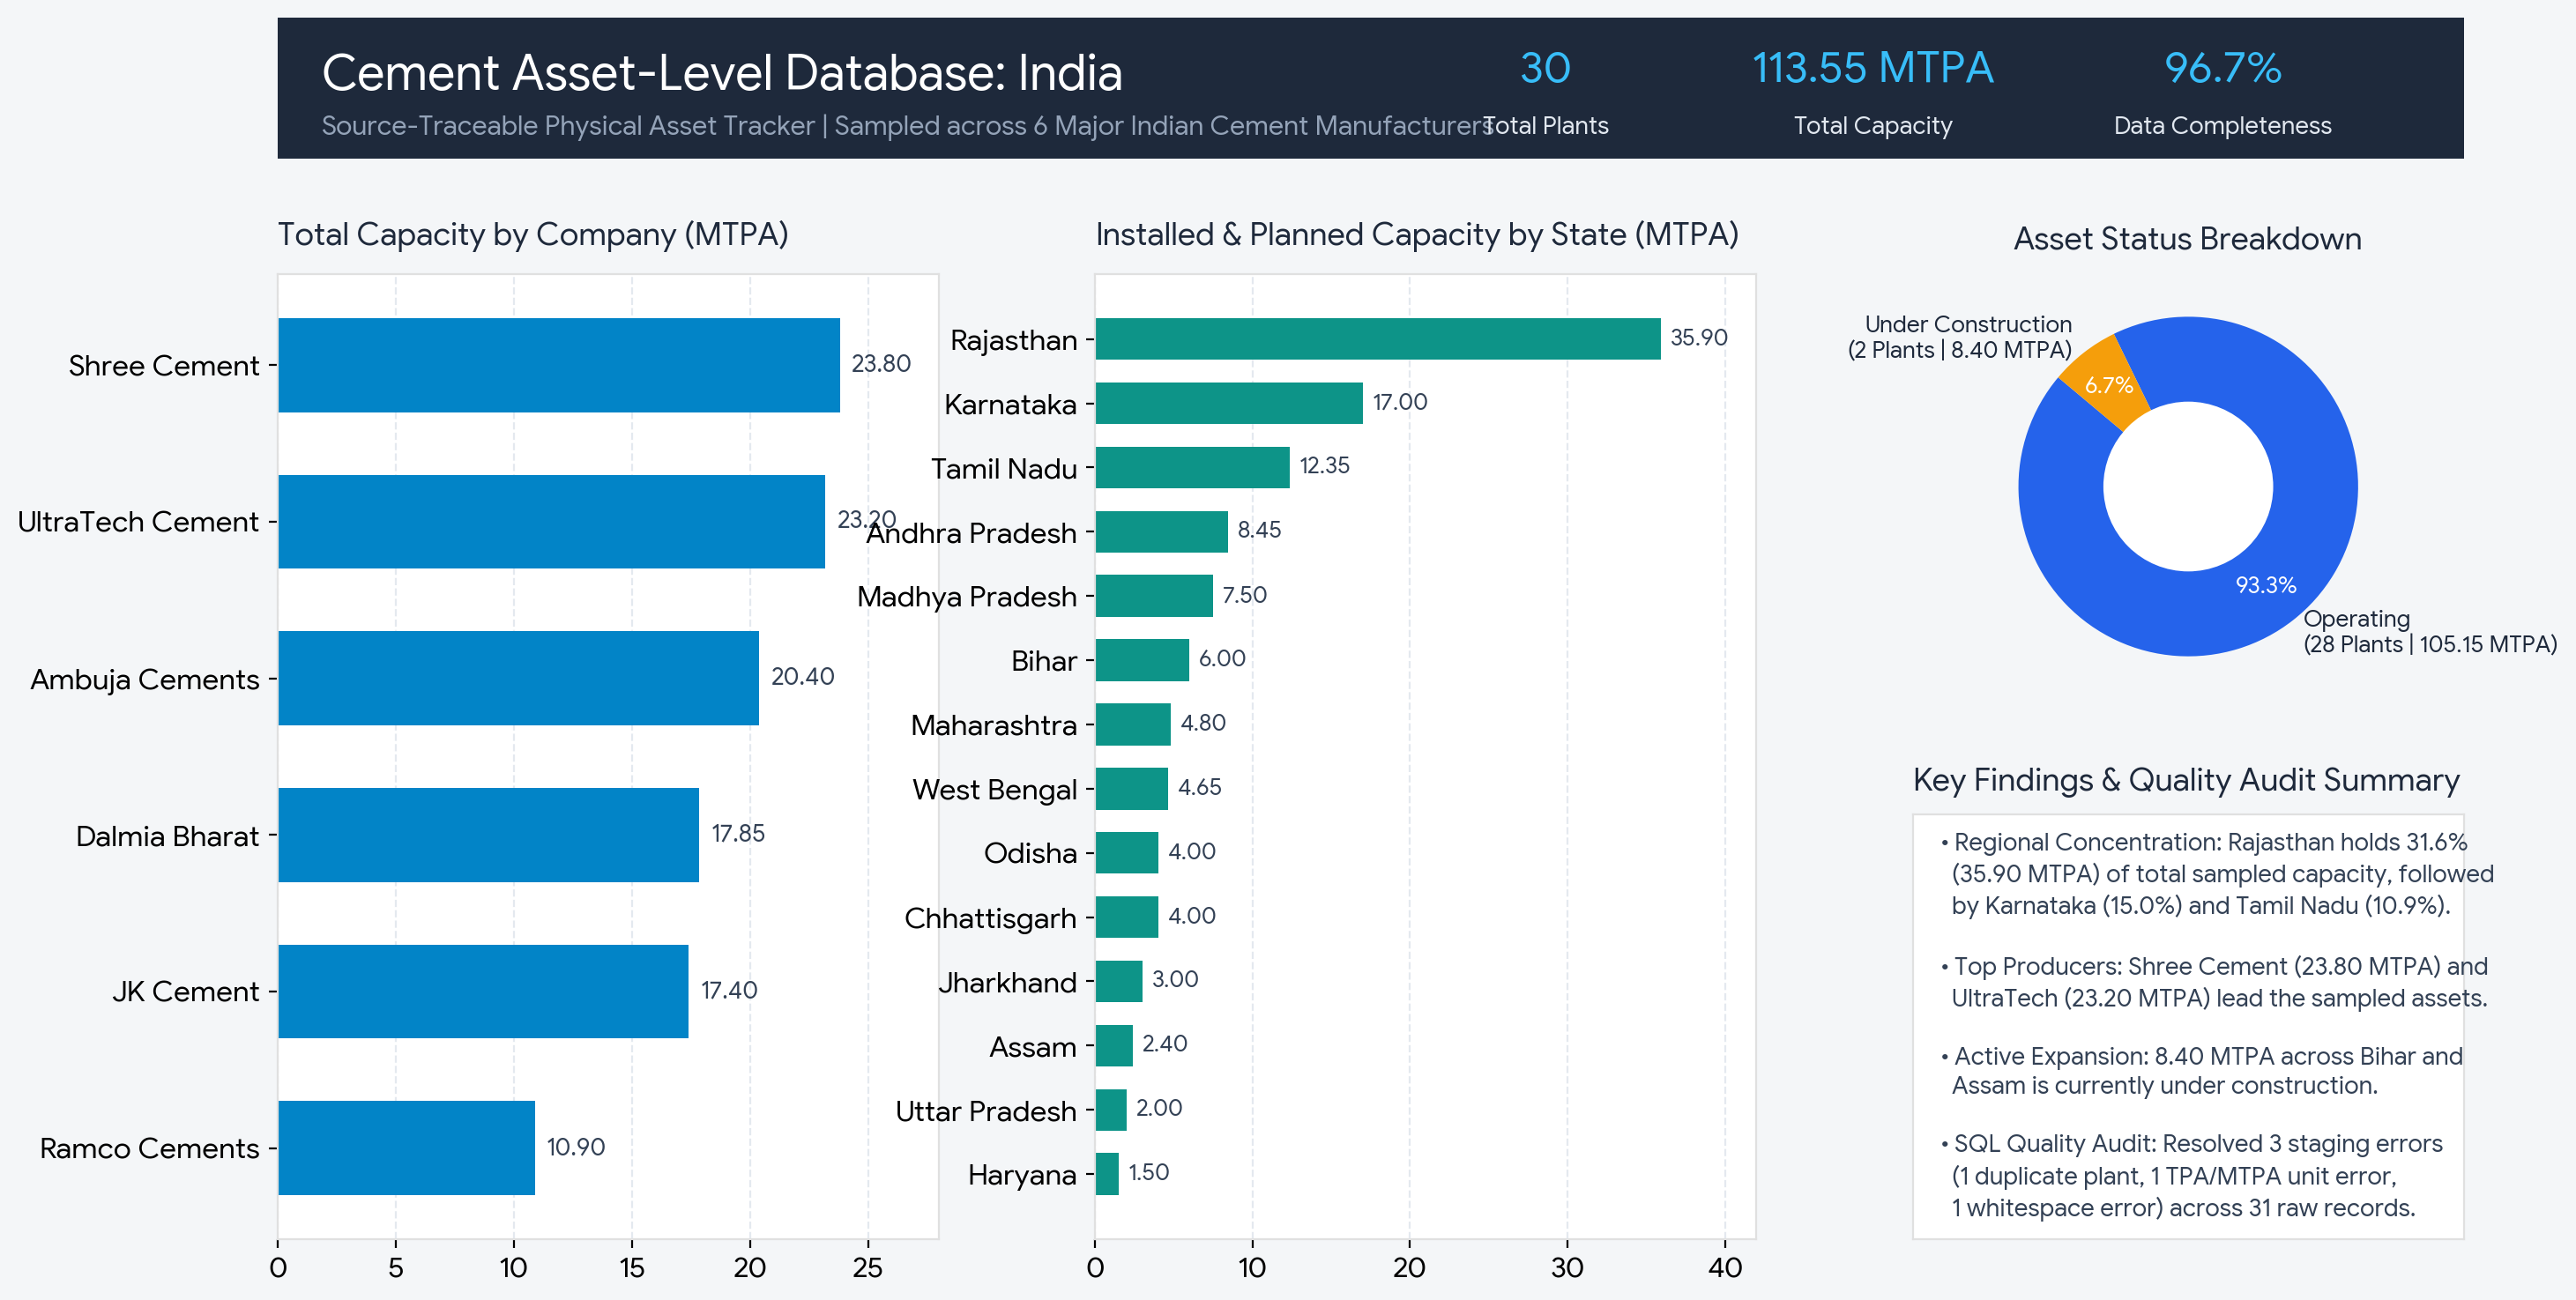

Layout of this report page (visuals, bound fields, positions):
{"tool":"powerbi","page":{"name":"Page 1","canvas":[1280,720],"ordinal":0},"visuals":[{"type":"clusteredBarChart","fields":{"Category":["assets_cleaned.Company"],"Y":["Sum(assets_cleaned.Capacity_MTPA)"]},"box":[22.5,130,650,582.5],"z":0},{"type":"map","fields":{"Category":["assets_cleaned.State"],"Size":["Sum(assets_cleaned.Capacity_MTPA)"]},"box":[895,432.5,373.8,280],"z":1000},{"type":"donutChart","fields":{"Category":["assets_cleaned.Status"],"Y":["CountNonNull(assets_cleaned.Asset_ID)"]},"box":[908.8,178.8,360,220],"z":2000},{"type":"card","fields":{"Values":["Avg(assets_cleaned.Capacity_MTPA)"]},"box":[1076,0,172,74.7],"z":3000},{"type":"textbox","box":[22.7,0,812,84],"z":4000},{"type":"card","fields":{"Values":["Count(assets_cleaned.Plant_Name)"]},"box":[773.3,0,174.7,74.7],"z":5000},{"type":"card","fields":{"Values":["Sum(assets_cleaned.Capacity_MTPA)"]},"box":[928,0,148,74.7],"z":6000},{"type":"tableEx","title":"By State","fields":{"Values":["assets_cleaned.State"]},"box":[712.5,162.5,182.5,530],"z":7000},{"type":"textbox","box":[176.2,118.8,438.8,43.8],"z":8000},{"type":"textbox","box":[745,118.8,116.2,43.8],"z":9000},{"type":"textbox","box":[1047.5,125,102.5,37.5],"z":9001},{"type":"textbox","box":[1041.2,391.2,67.5,41.2],"z":9002}]}

Visuals, with their boxes on the page's 1280x720 design canvas (x1, y1, x2, y2). These are canvas units, not pixel positions in the 2576x1300 screenshot, which may show the page scaled, cropped or inside an application window:
clusteredBarChart - assets_cleaned.Company x Sum(assets_cleaned.Capacity_MTPA): {"left": 22, "top": 130, "right": 672, "bottom": 712}
map - assets_cleaned.State x Sum(assets_cleaned.Capacity_MTPA): {"left": 895, "top": 432, "right": 1269, "bottom": 712}
donutChart - assets_cleaned.Status x CountNonNull(assets_cleaned.Asset_ID): {"left": 909, "top": 179, "right": 1269, "bottom": 399}
card - Avg(assets_cleaned.Capacity_MTPA): {"left": 1076, "top": 0, "right": 1248, "bottom": 75}
textbox: {"left": 23, "top": 0, "right": 835, "bottom": 84}
card - Count(assets_cleaned.Plant_Name): {"left": 773, "top": 0, "right": 948, "bottom": 75}
card - Sum(assets_cleaned.Capacity_MTPA): {"left": 928, "top": 0, "right": 1076, "bottom": 75}
"By State" tableEx: {"left": 712, "top": 162, "right": 895, "bottom": 692}
textbox: {"left": 176, "top": 119, "right": 615, "bottom": 163}
textbox: {"left": 745, "top": 119, "right": 861, "bottom": 163}
textbox: {"left": 1048, "top": 125, "right": 1150, "bottom": 162}
textbox: {"left": 1041, "top": 391, "right": 1109, "bottom": 432}
